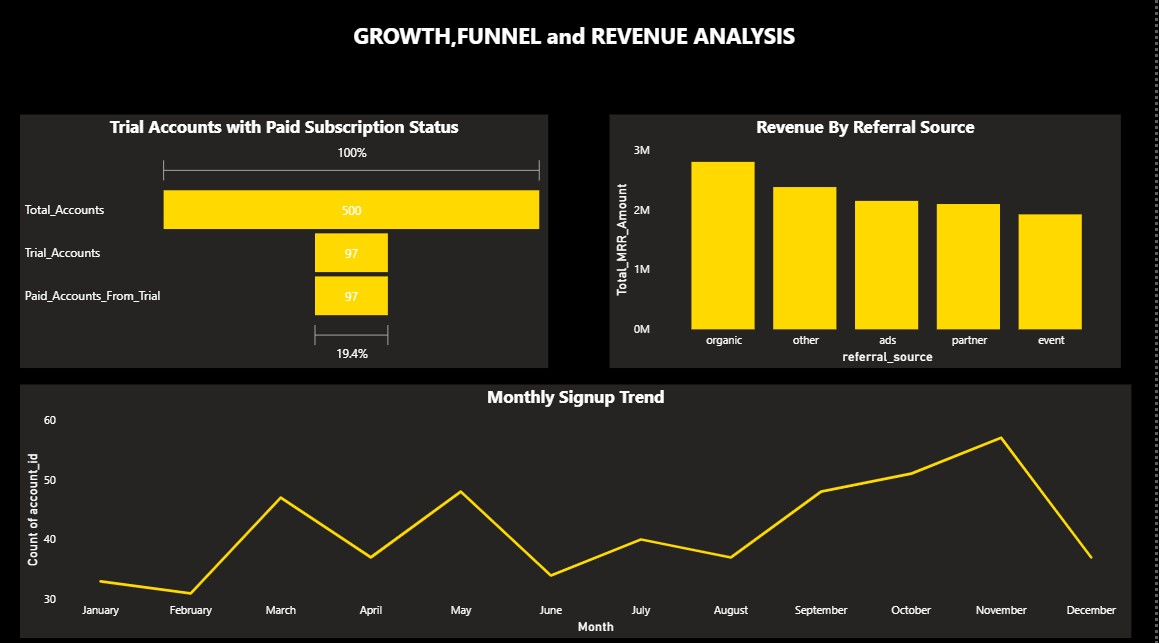

The page's visual inventory and layout, read from the dashboard file:
{"tool":"powerbi","page":{"name":"Growth ,Funnel and Revenue Analysis","canvas":[1280,720],"ordinal":1},"visuals":[{"type":"lineChart","title":"Monthly Signup Trend","fields":{"Category":["public accounts.signup_date.Variation.Date Hierarchy.Month"],"Y":["CountNonNull(public accounts.account_id)"]},"box":[26.5,429,1227.5,279.9],"z":0},{"type":"funnel","title":"Trial Accounts with Paid Subscription Status ","fields":{"Y":["public accounts.Total_Accounts","public accounts.Trial_Accounts","public accounts.Paid_Accounts_From_Trial"]},"box":[26.5,130.9,583.1,279.9],"z":1},{"type":"columnChart","title":"Revenue By Referral Source","fields":{"Y":["public accounts.Total_MRR_Amount"],"Category":["public accounts.referral_source"]},"box":[677.5,130.9,564.9,279.9],"z":2},{"type":"textbox","box":[339.6,21.5,598,97.7],"z":3}]}

Visuals, with their boxes in screenshot pixels (x1, y1, x2, y2), scaled from the page's 1280x720 canvas onto the 1159x643 screenshot:
"Monthly Signup Trend" lineChart: pyautogui.locateOnScreen(24, 383, 1135, 633)
"Trial Accounts with Paid Subscription Status " funnel: pyautogui.locateOnScreen(24, 117, 552, 367)
"Revenue By Referral Source" columnChart: pyautogui.locateOnScreen(613, 117, 1125, 367)
textbox: pyautogui.locateOnScreen(307, 19, 849, 106)
